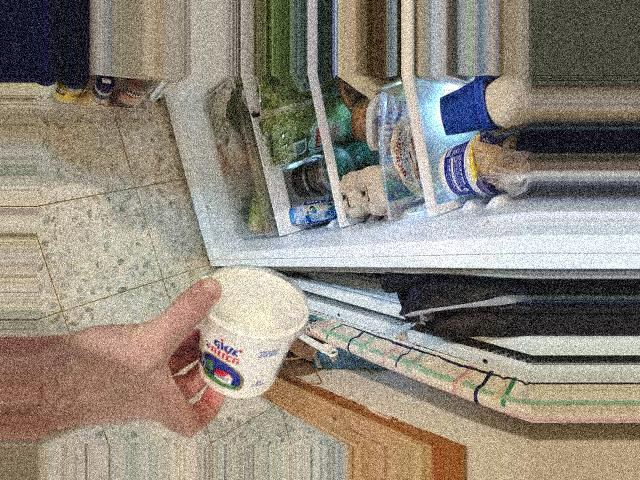cotage: (181, 293, 300, 395)
